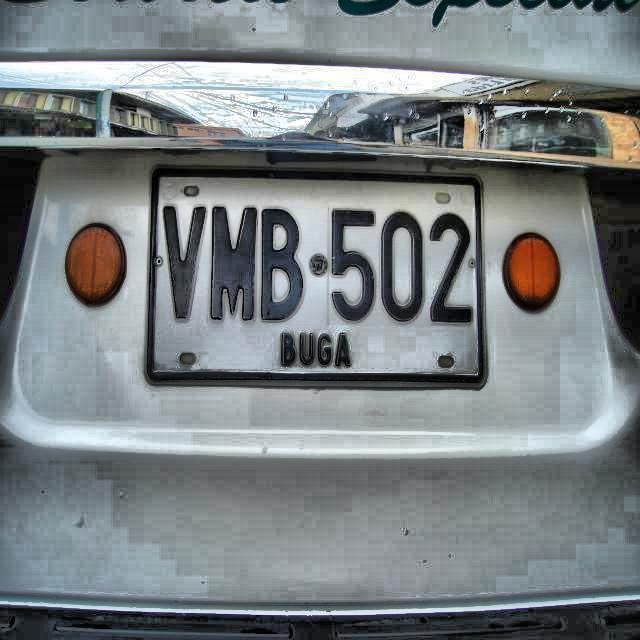plate: (144, 166, 487, 389)
